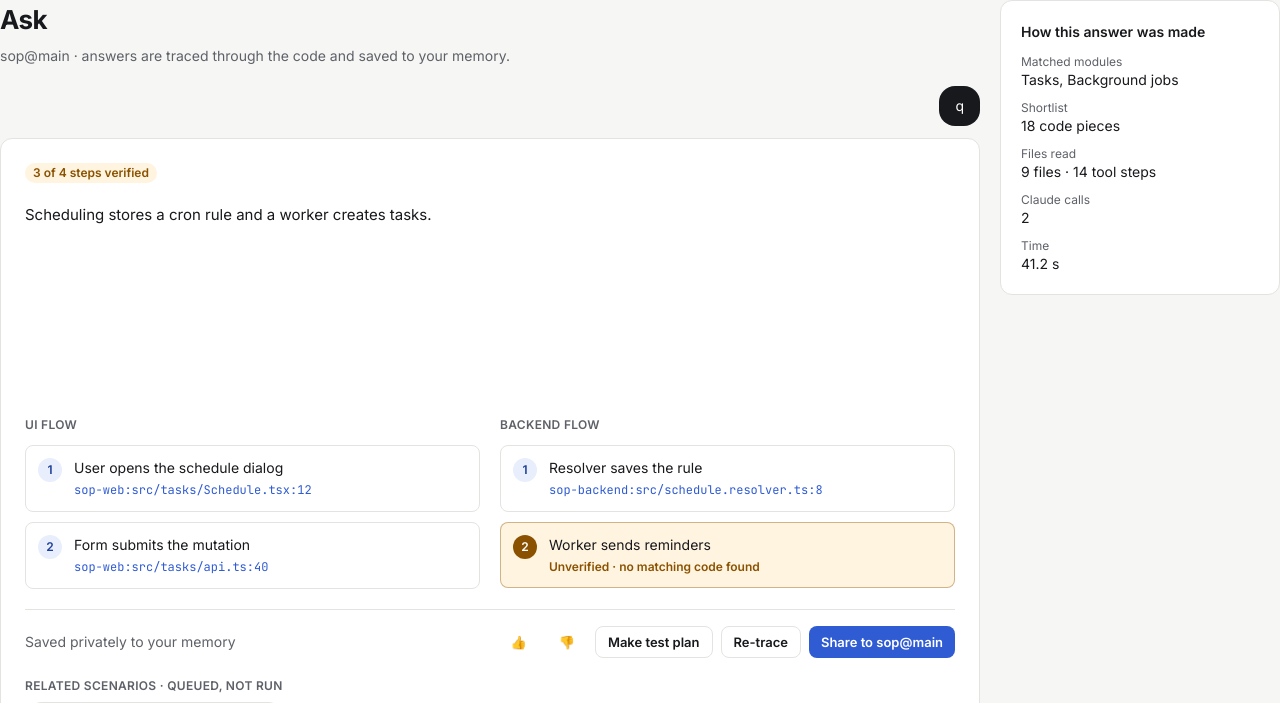
Test case: ask_share_signed_out_opens_login
Click the button "Share to sop@main" at (882, 642), box [809,626,955,658]
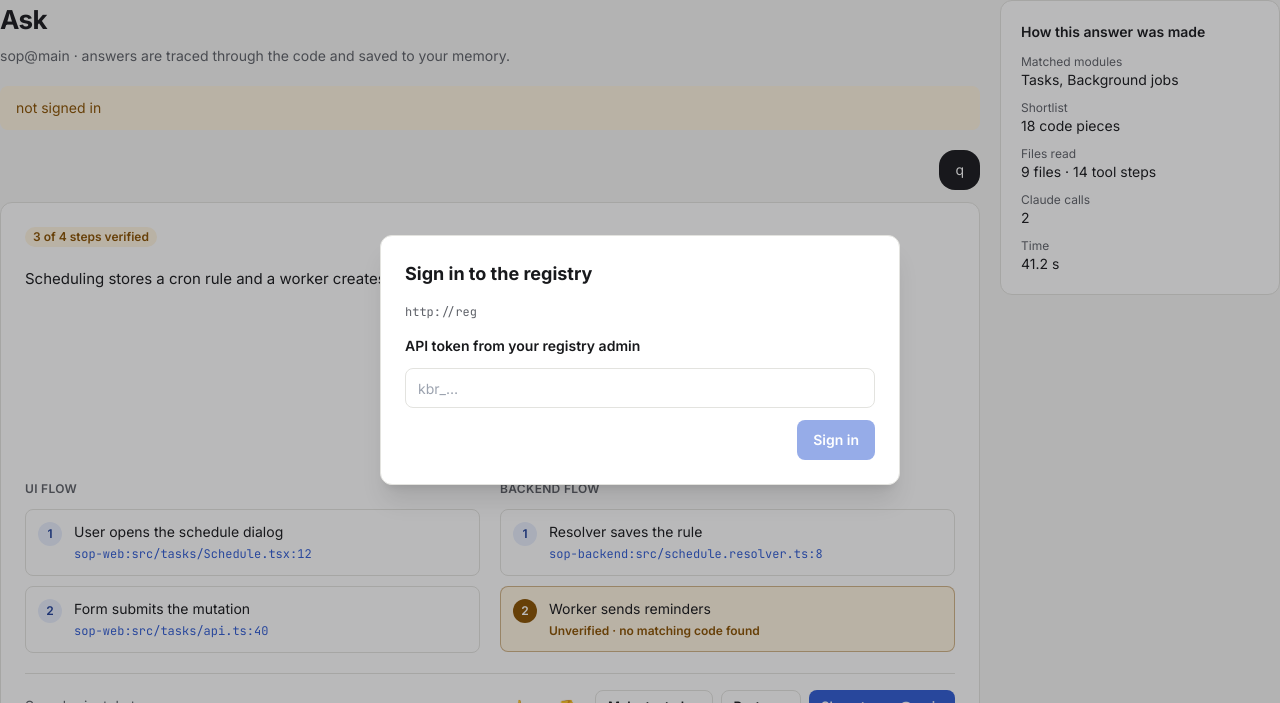
Check: the heading "Sign in to the registry" is shown, box [405,263,592,284]
